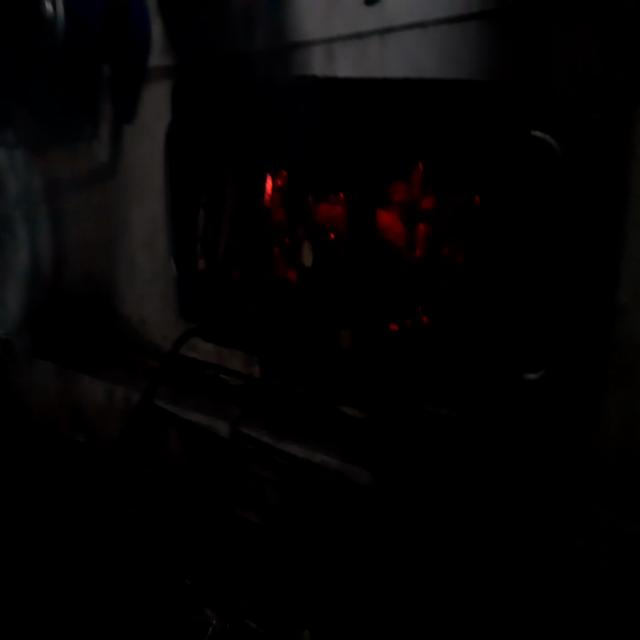Fire: (253, 158, 438, 304)
